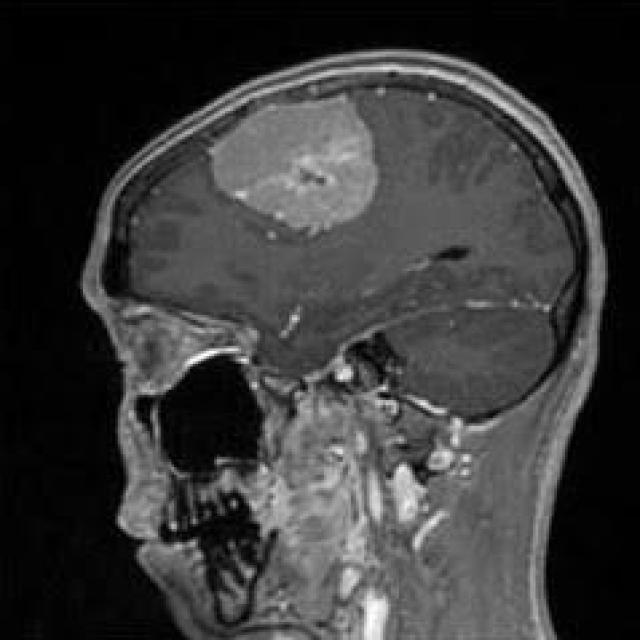Tumor: (209, 95, 380, 236)
